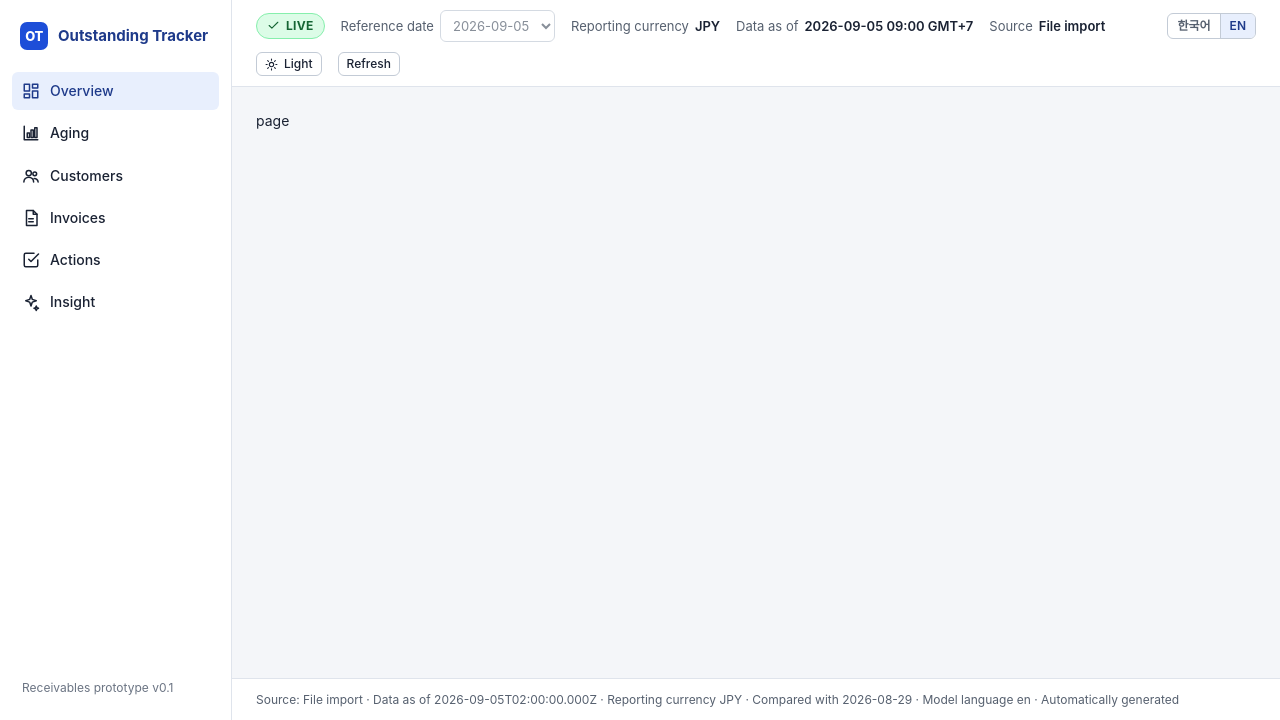
Test: i18n › toggling the language switches the nav labels and updates <html lang>
Expected: the navigation bar named "Main navigation" shows "Overview", [12,72,219,110]
Expected: the navigation bar named "Main navigation" shows "Customers", [12,157,219,195]
Step 1. Click the button with test id "lang-ko" → (1194, 26), box [1168,14,1220,38]
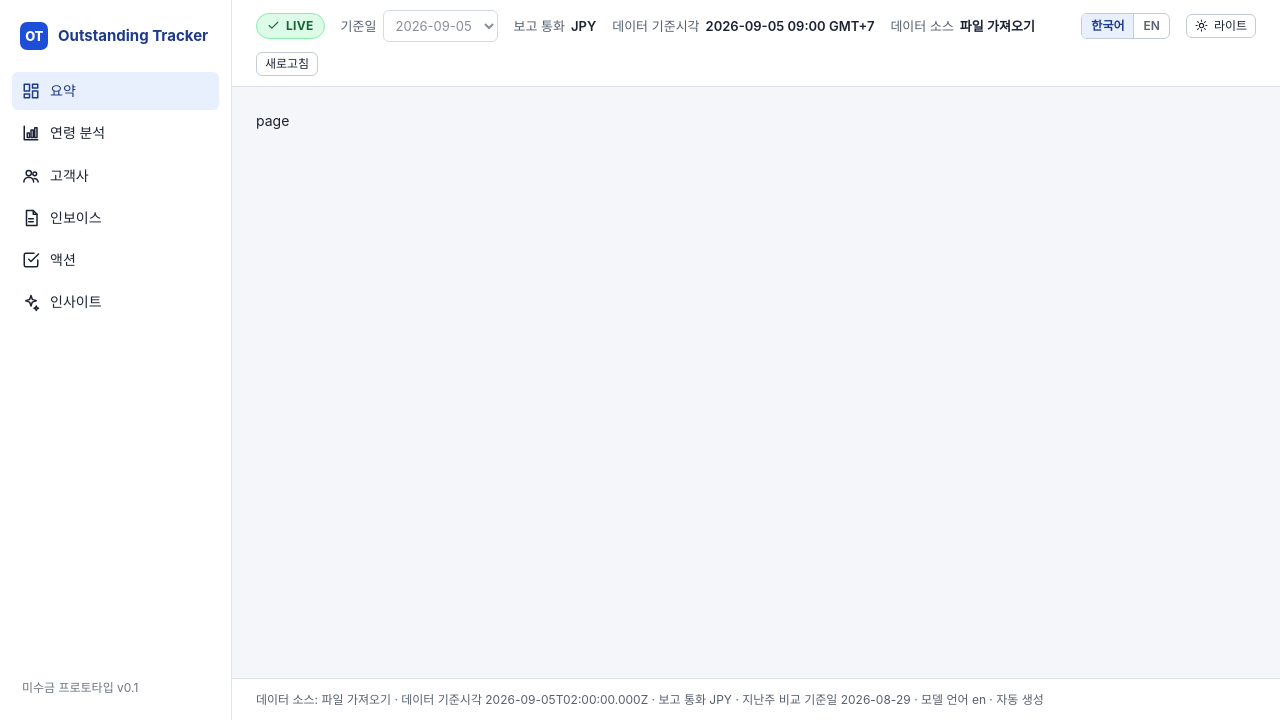
Expected: the navigation bar named "주 메뉴" shows "요약", [12,72,219,110]
Expected: the navigation bar named "주 메뉴" shows "고객사", [12,157,219,195]
Expected: the navigation bar named "주 메뉴" no longer shows "Customers", [0,0,232,719]
Step 2. Click the button with test id "lang-en" → (1151, 26), box [1134,14,1169,38]
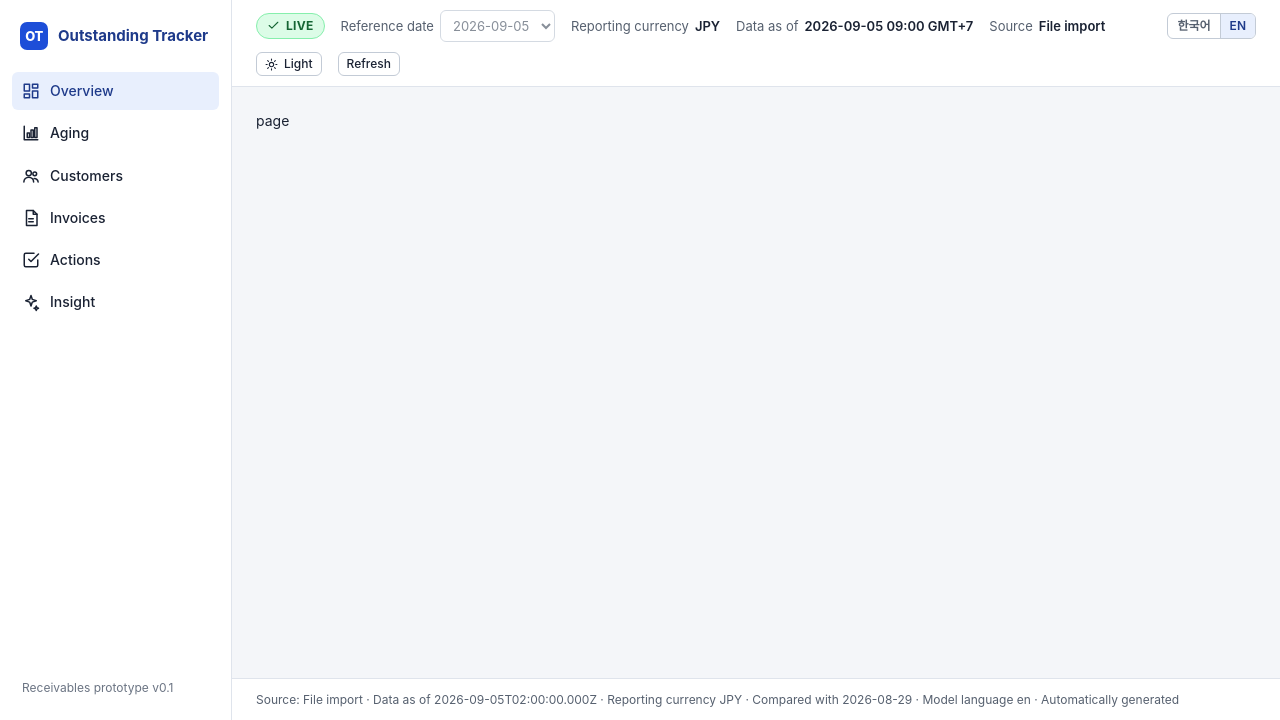
Expected: the navigation bar named "Main navigation" shows "Overview", [12,72,219,110]
